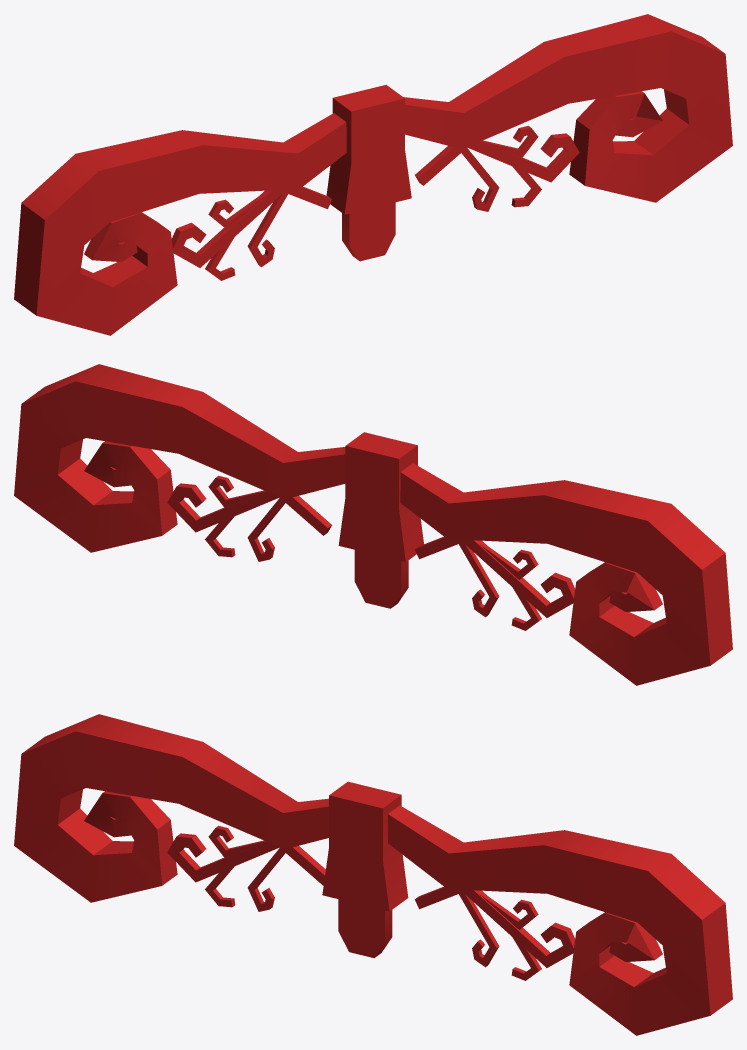
The model's file is roof_top_statue_E.fbx.
The picture shows the model from 3 angles, top to bottom: view 1: azimuth 30°, elevation 25°; view 2: azimuth 150°, elevation 25°; view 3: azimuth 330°, elevation 25°; orthographic projection.
Visible parts, largest first — view 1: roof_top_statue_E; view 2: roof_top_statue_E; view 3: roof_top_statue_E.
Boxes of the visible parts, left/top/right/bottom form: roof_top_statue_E: left=14, top=14, right=732, bottom=335; roof_top_statue_E: left=14, top=364, right=732, bottom=685; roof_top_statue_E: left=14, top=714, right=732, bottom=1035.
Bounding box in the file's own units: 133 × 30.96 × 7.79.
